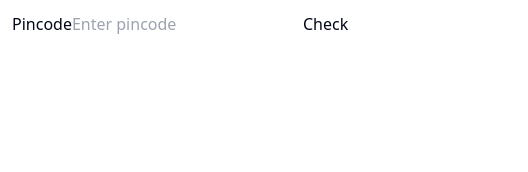
PincodeChecker look="clean" › says the same words for a piece in stock, with no icons or colours of its own
In the field with placeholder "Enter pincode": x=187, y=24 72,12 -> 303,36, type "400001"
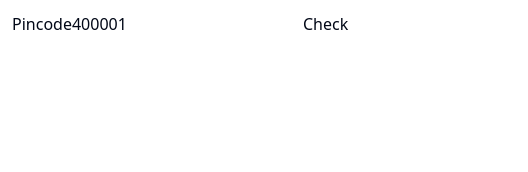
Click the button "Check": x=326, y=24 303,12 -> 348,36
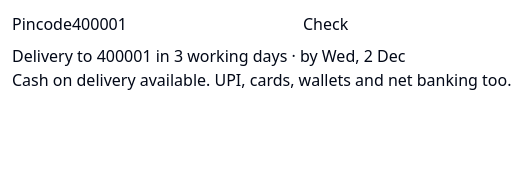
Expected: the text "Delivery to 400001 in 3 working days · by Wed, 2 Dec" is shown, 12,45 -> 405,67
Expected: the text "Cash on delivery available. UPI, cards, wallets and net banking too." is shown, 12,69 -> 512,91
